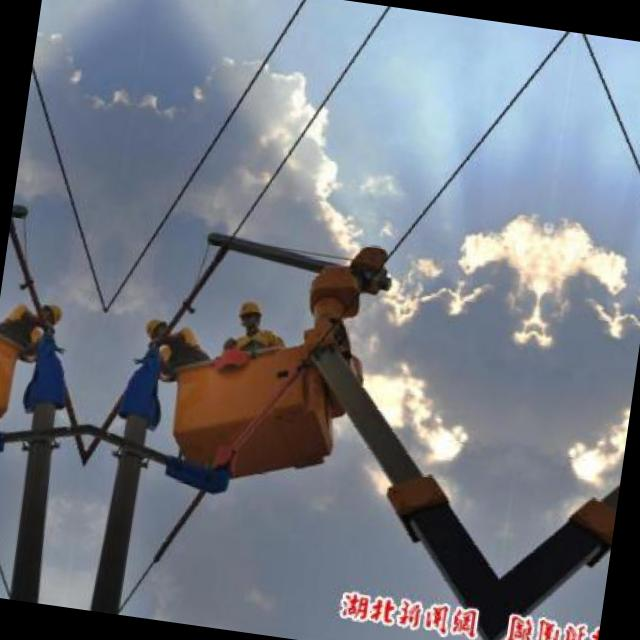helmet: (138, 315, 180, 346), (26, 299, 68, 330), (236, 297, 266, 333)
